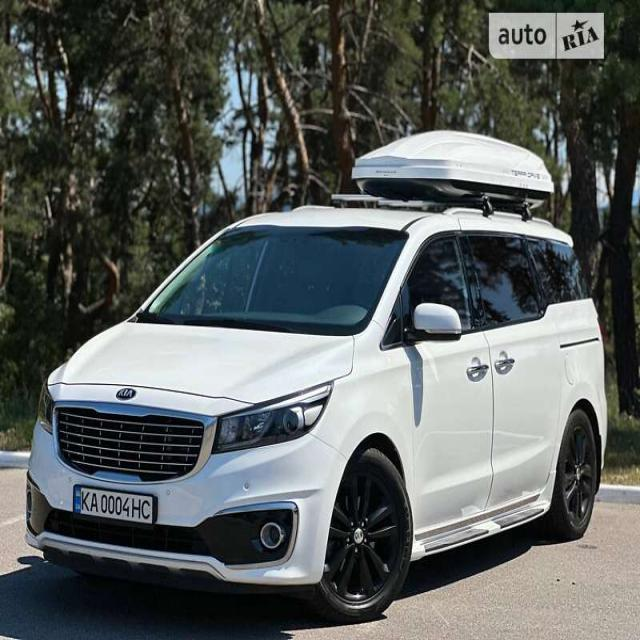plate: (69, 481, 160, 531)
